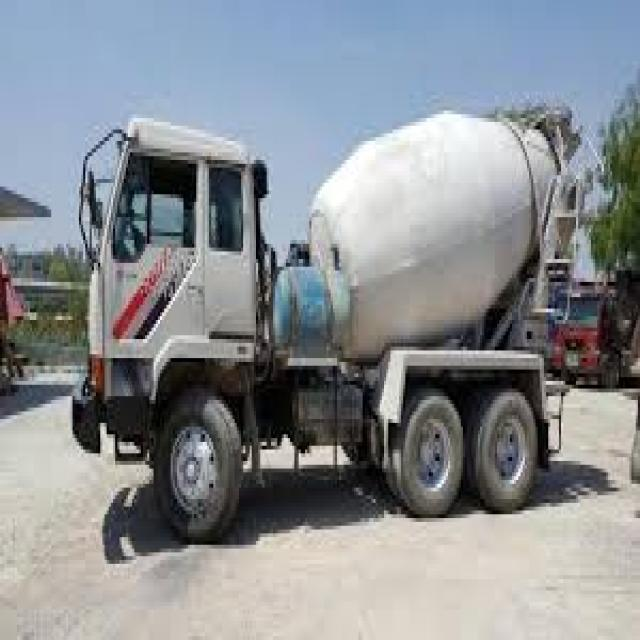Mixer Truck: (68, 93, 588, 546)
